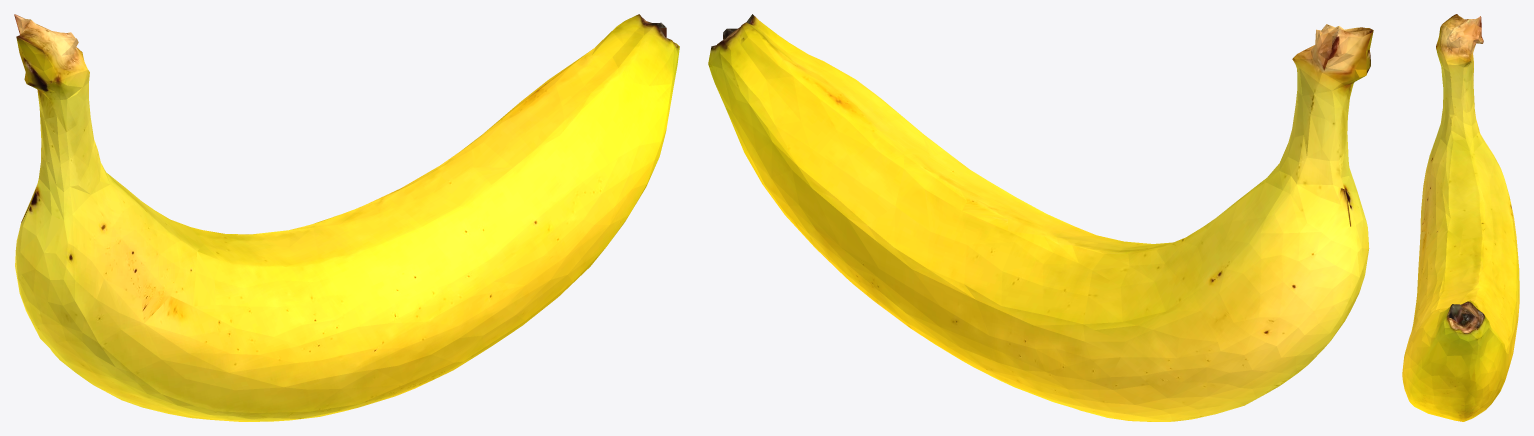
File: banana-v1-transformed.glb
3 views of the same model, side by side, from view 1: azimuth 30°, elevation 25°; view 2: azimuth 150°, elevation 25°; view 3: azimuth 270°, elevation 25° (orthographic). The views are drawn at different scales.
Parts seen in each view (by area): view 1: banana; view 2: banana; view 3: banana.
Boxes of the visible parts, bbox=[...] form: banana: bbox=[14, 14, 679, 421]; banana: bbox=[708, 14, 1373, 421]; banana: bbox=[1402, 14, 1519, 421].
Bounding box in the file's own units: 6.79 × 4.43 × 1.62.
1 material, 1 textured.
